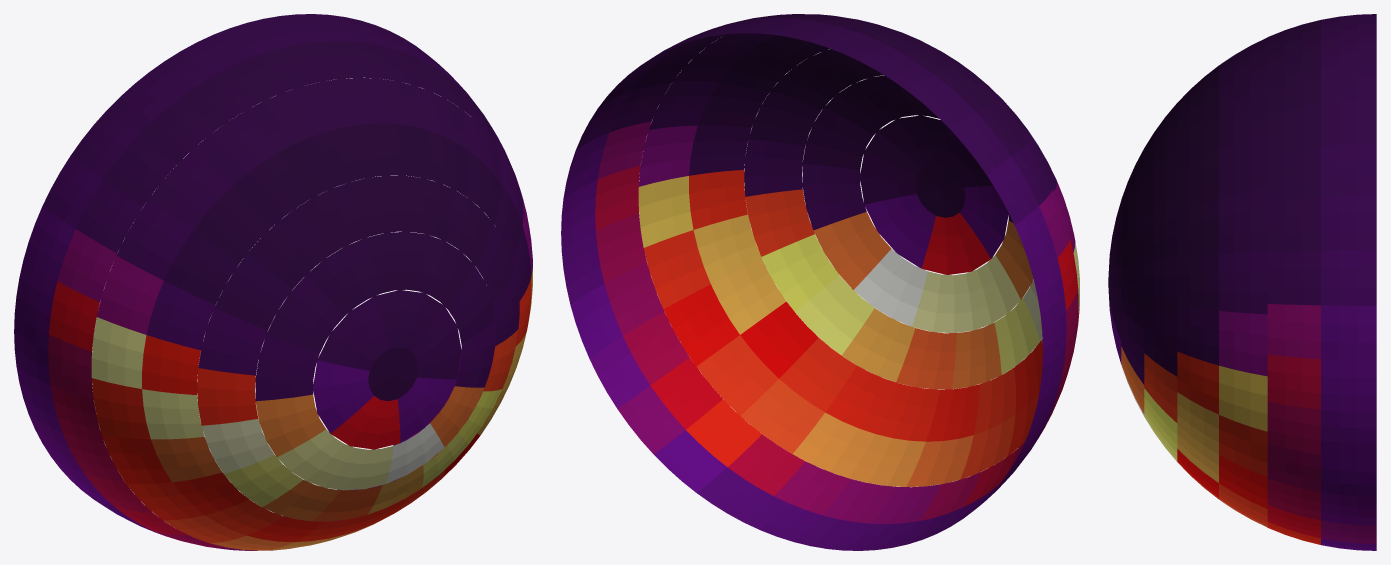
3 renders of one model, left to right at view 1: azimuth 30°, elevation 25°; view 2: azimuth 150°, elevation 25°; view 3: azimuth 270°, elevation 25°, orthographic. The views are drawn at different scales.
Visible parts, largest first — view 1: object_1; view 2: object_1; view 3: object_1.
Part boxes in pixels (x1,y1,x2,y2): object_1: [14, 14, 532, 550]; object_1: [561, 14, 1079, 550]; object_1: [1108, 14, 1376, 550].
Bounding box in the file's own units: 200 × 200 × 100.
